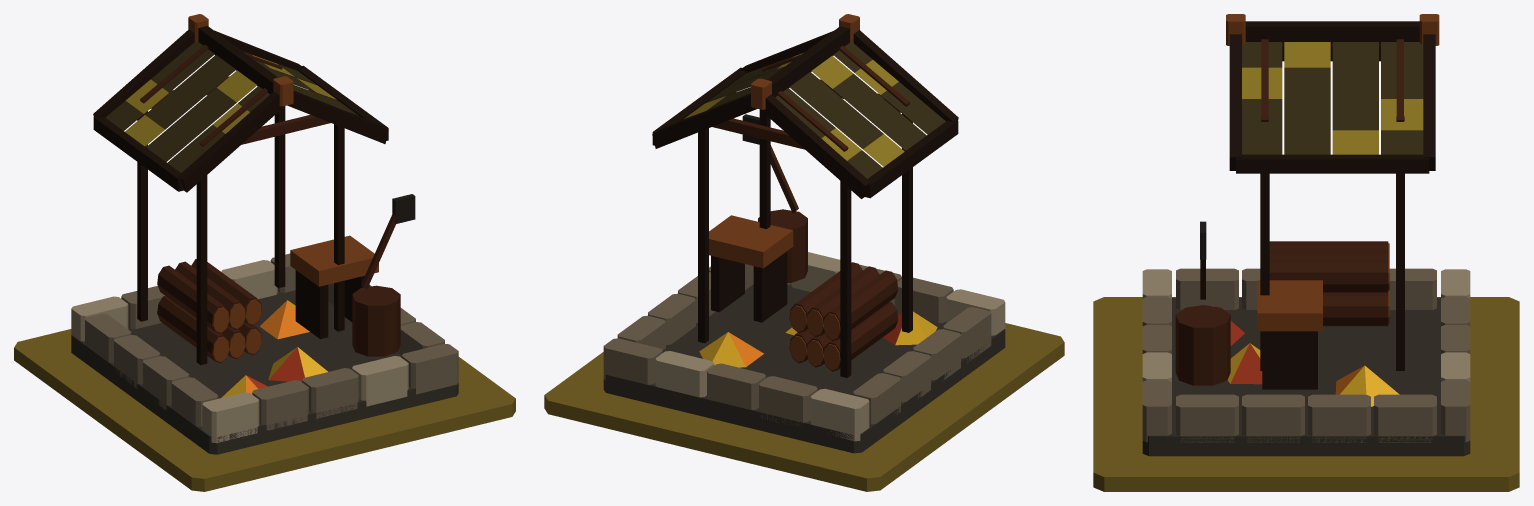
The model's file is timber_yard_t3.glb.
3 renders of one model, left to right at view 1: azimuth 30°, elevation 25°; view 2: azimuth 150°, elevation 25°; view 3: azimuth 270°, elevation 25°, orthographic. The views are drawn at different scales.
Parts seen in each view (by area): view 1: MMR | timber_yard | T03 Architecture.001, MMR | timber_yard | Tier 03 Ground.001, MMR | timber_yard | T03 Autumn Dressing.001; view 2: MMR | timber_yard | T03 Architecture.001, MMR | timber_yard | Tier 03 Ground.001, MMR | timber_yard | T03 Autumn Dressing.001; view 3: MMR | timber_yard | T03 Architecture.001, MMR | timber_yard | Tier 03 Ground.001, MMR | timber_yard | T03 Autumn Dressing.001.
Part boxes in pixels (x1,y1,x2,y2): MMR | timber_yard | T03 Architecture.001: (71, 14, 458, 454); MMR | timber_yard | Tier 03 Ground.001: (14, 329, 515, 491); MMR | timber_yard | T03 Autumn Dressing.001: (221, 300, 327, 397); MMR | timber_yard | T03 Architecture.001: (603, 14, 1005, 453); MMR | timber_yard | Tier 03 Ground.001: (544, 323, 1064, 491); MMR | timber_yard | T03 Autumn Dressing.001: (699, 311, 937, 367); MMR | timber_yard | T03 Architecture.001: (1142, 14, 1470, 456); MMR | timber_yard | Tier 03 Ground.001: (1093, 297, 1519, 491); MMR | timber_yard | T03 Autumn Dressing.001: (1212, 305, 1399, 406).
Size of the model in its own units: 1.3 by 1.27 by 1.3.
Materials: 1 (1 with a texture image).
